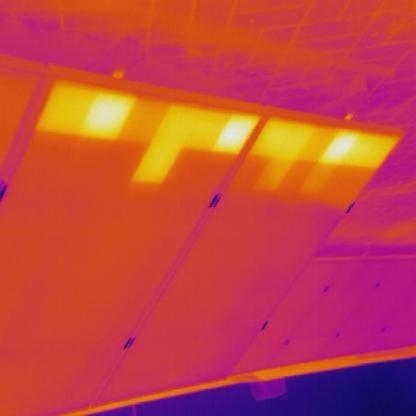anomaly: (47, 81, 261, 185), (262, 120, 395, 172)
